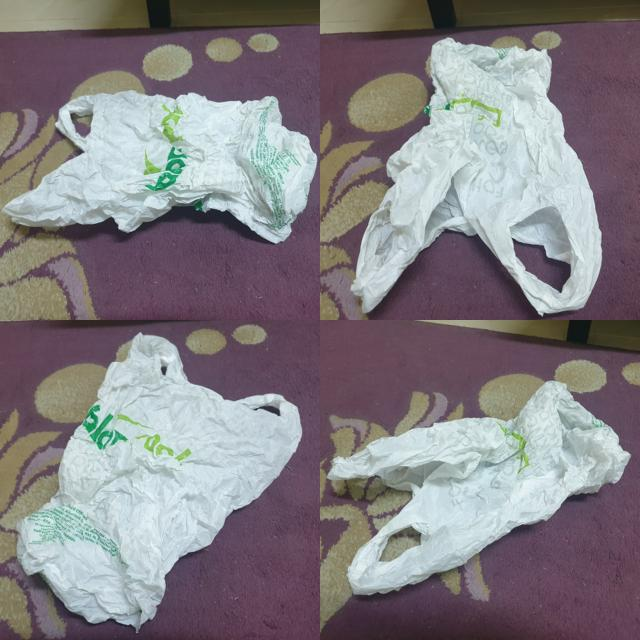Single-layer Plastic: (18, 334, 301, 629), (351, 38, 601, 315), (328, 381, 630, 595), (4, 91, 316, 244)
